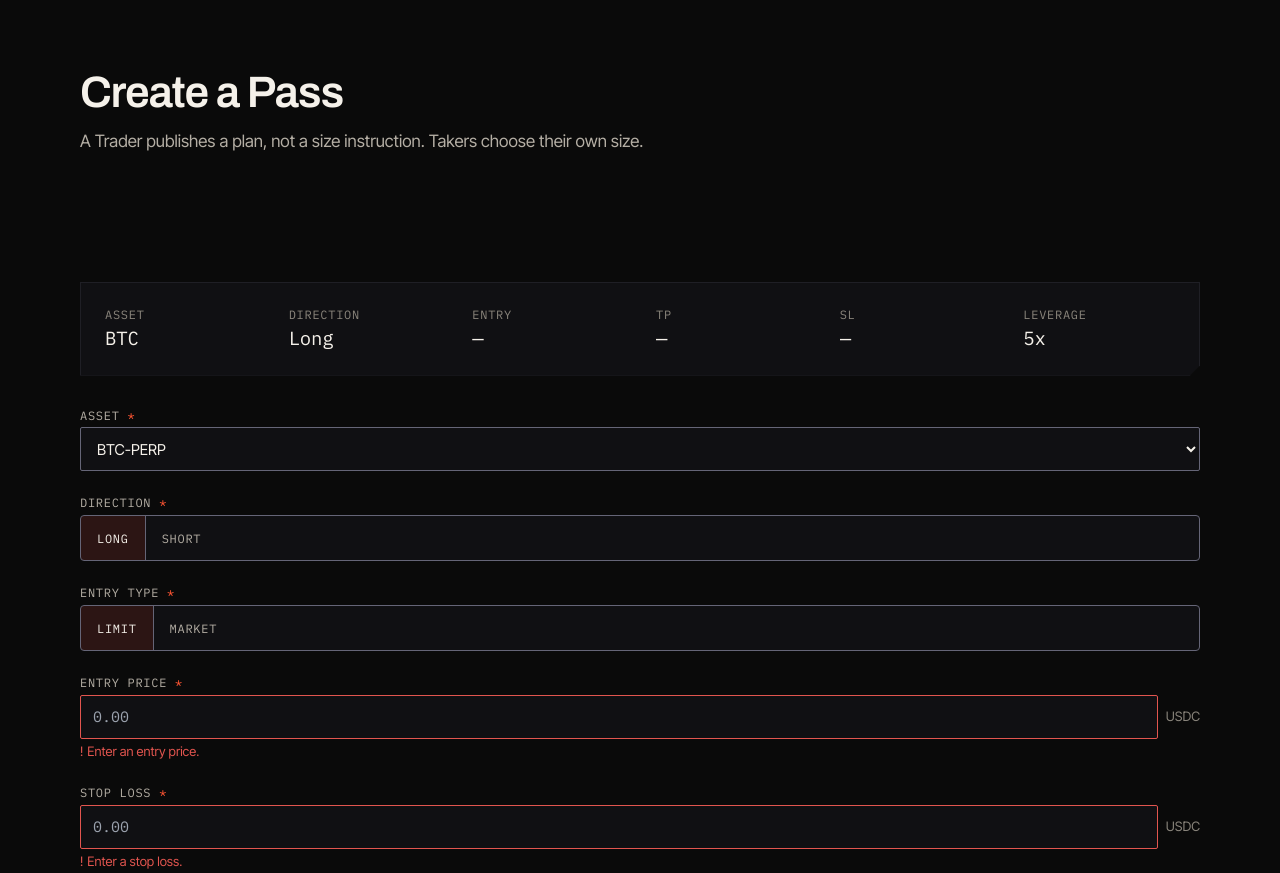
Scenario: Create Pass publish path (create then publish) › POSTs the draft, then publishes it, and only then says Published
Check: the heading "Create a Pass" is shown, box [80,68,343,116]
Type "111900" into the field labelled "Stop loss *" at point(619, 827), box [80,805,1158,849]
(page scrolled)
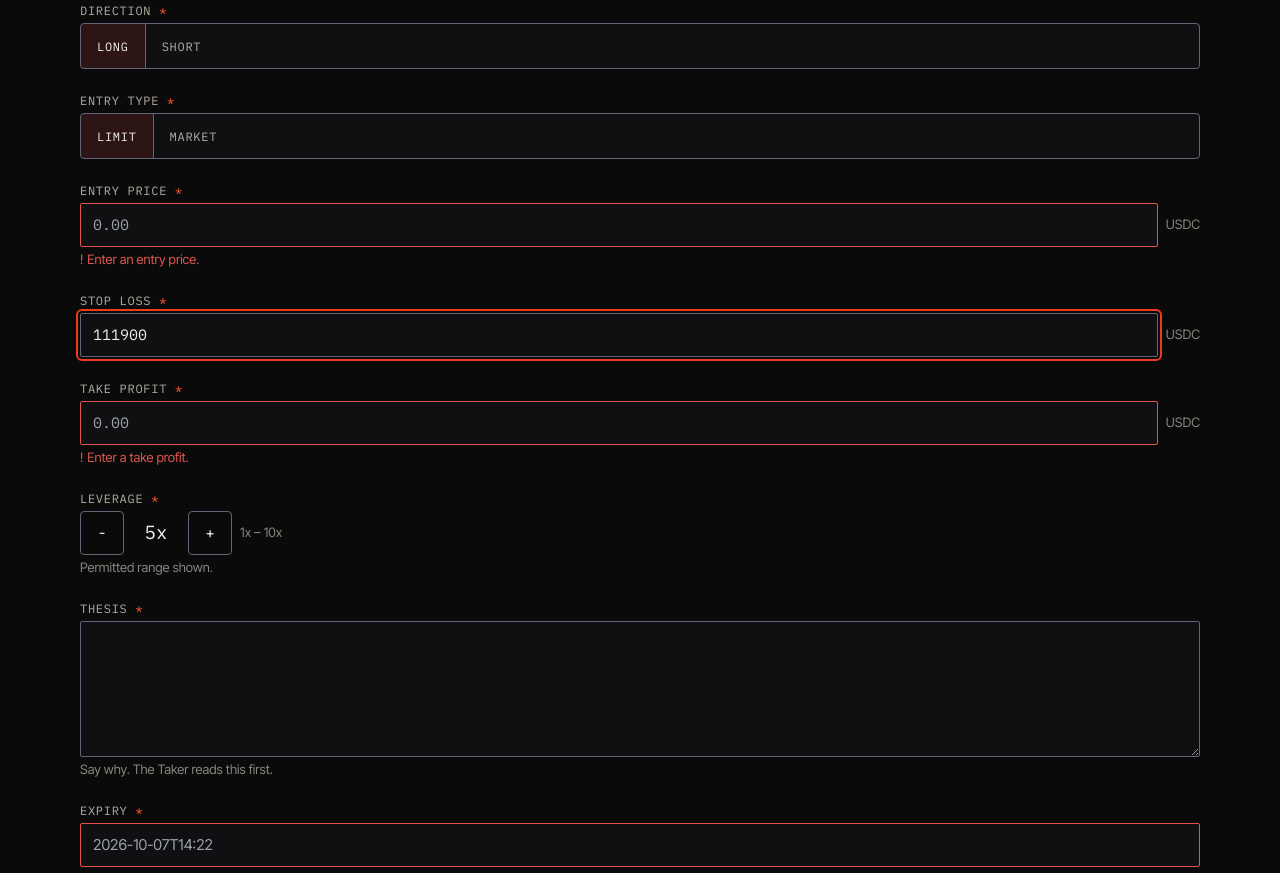
Type "116000" into the field labelled "Take profit *" at point(619, 423), box [80,401,1158,445]
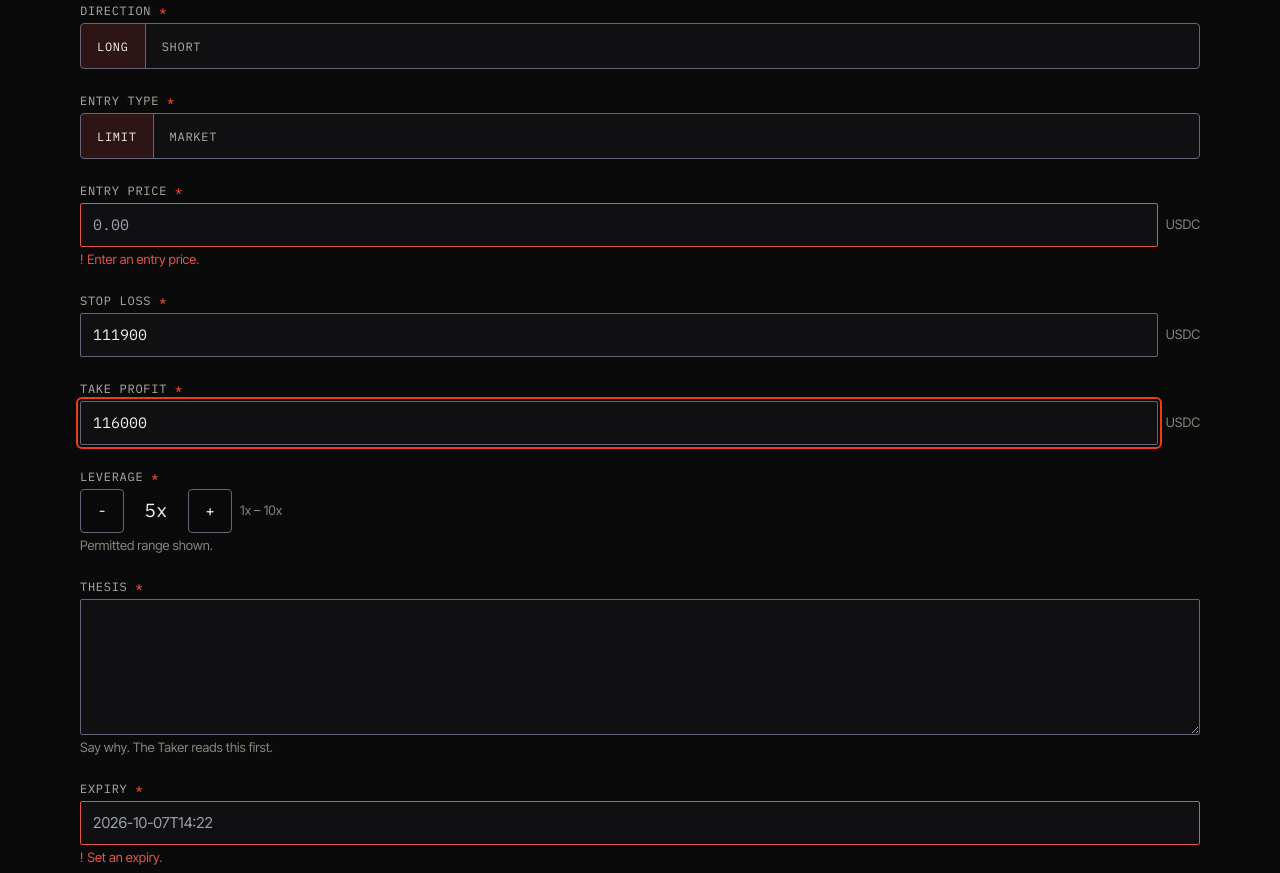
Type "113400" into the field labelled "Entry price *" at point(619, 225), box [80,203,1158,247]
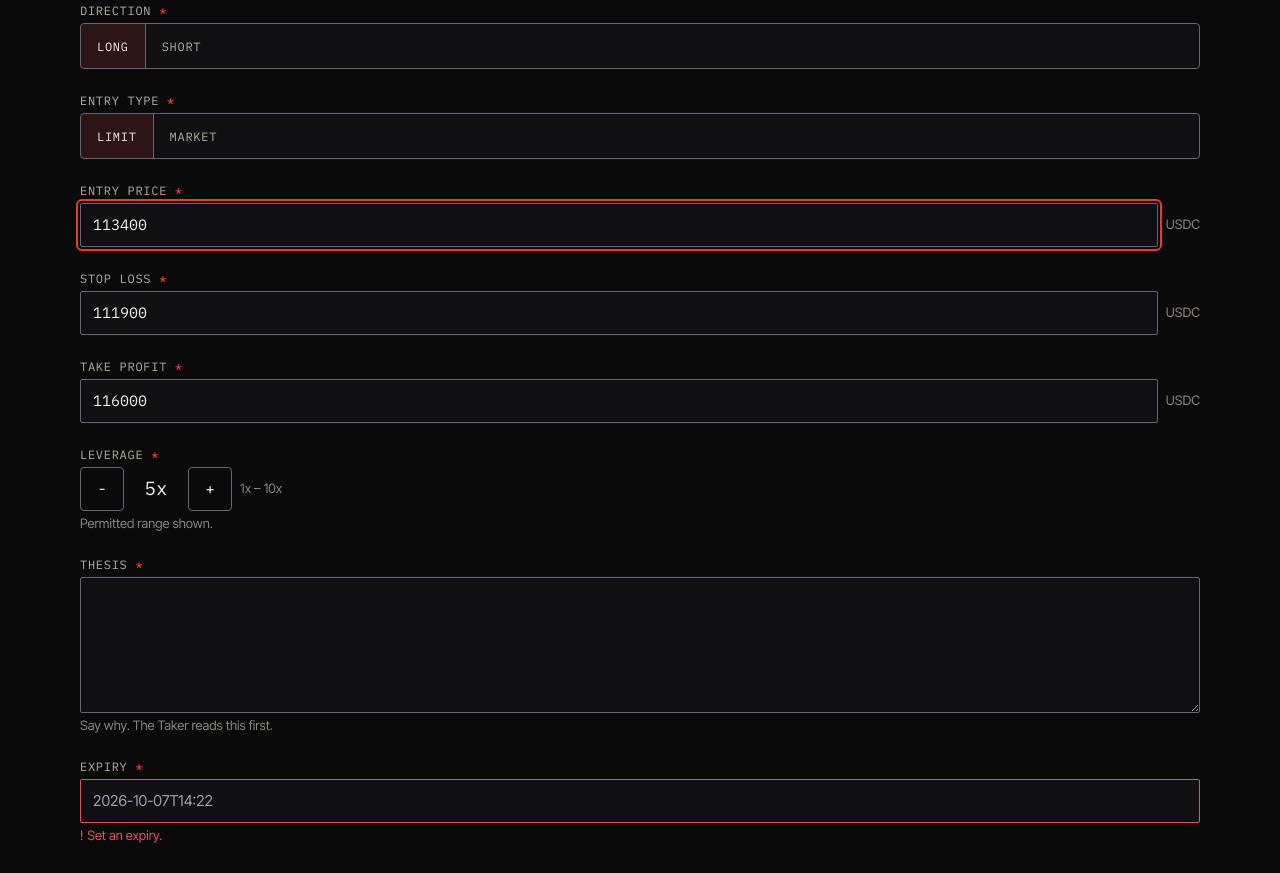
Type "Range top reclaim." into the text box labelled "Thesis *" at point(640, 645), box [80,577,1200,713]
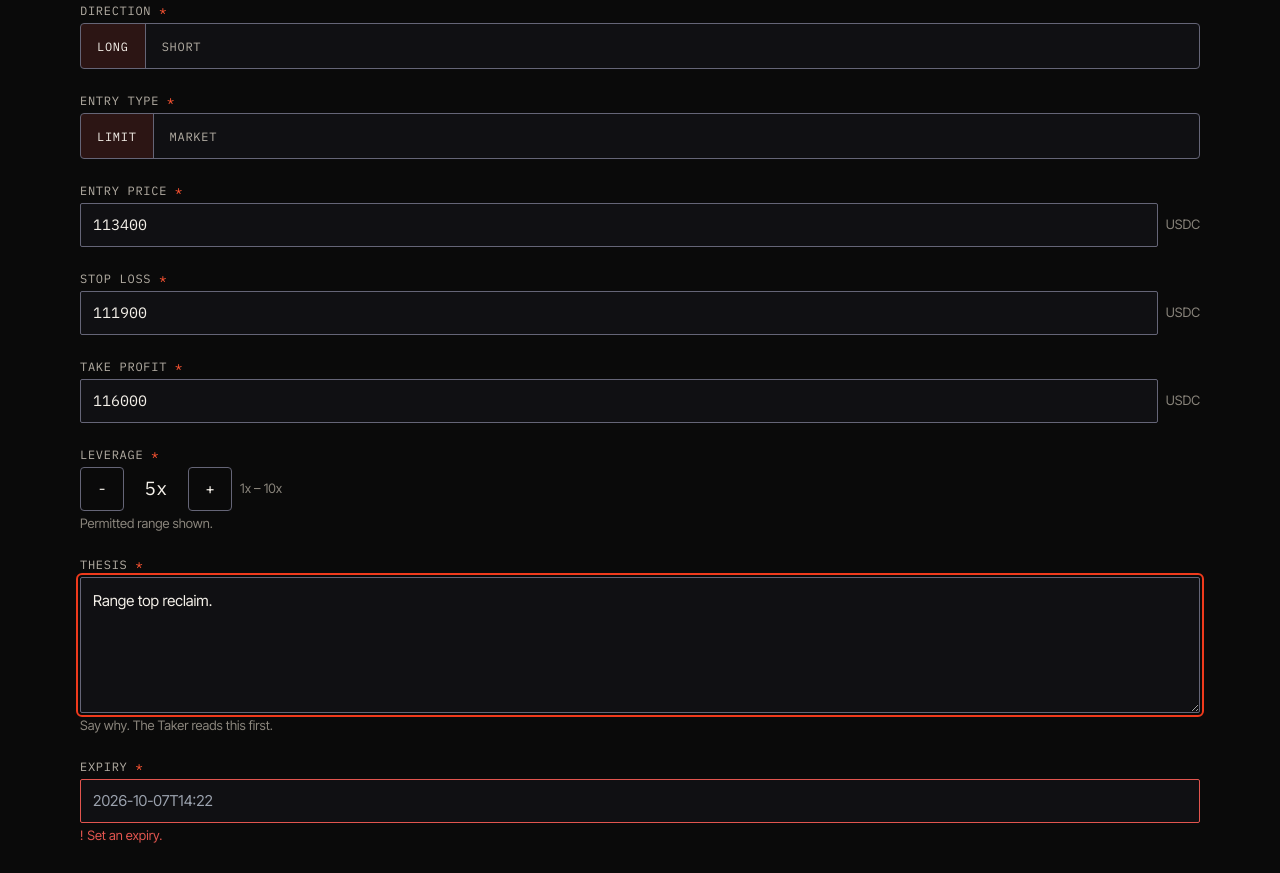
Type "2099-01-01T00:00" into the field labelled "Expiry *" at point(640, 801), box [80,779,1200,823]
(page scrolled)
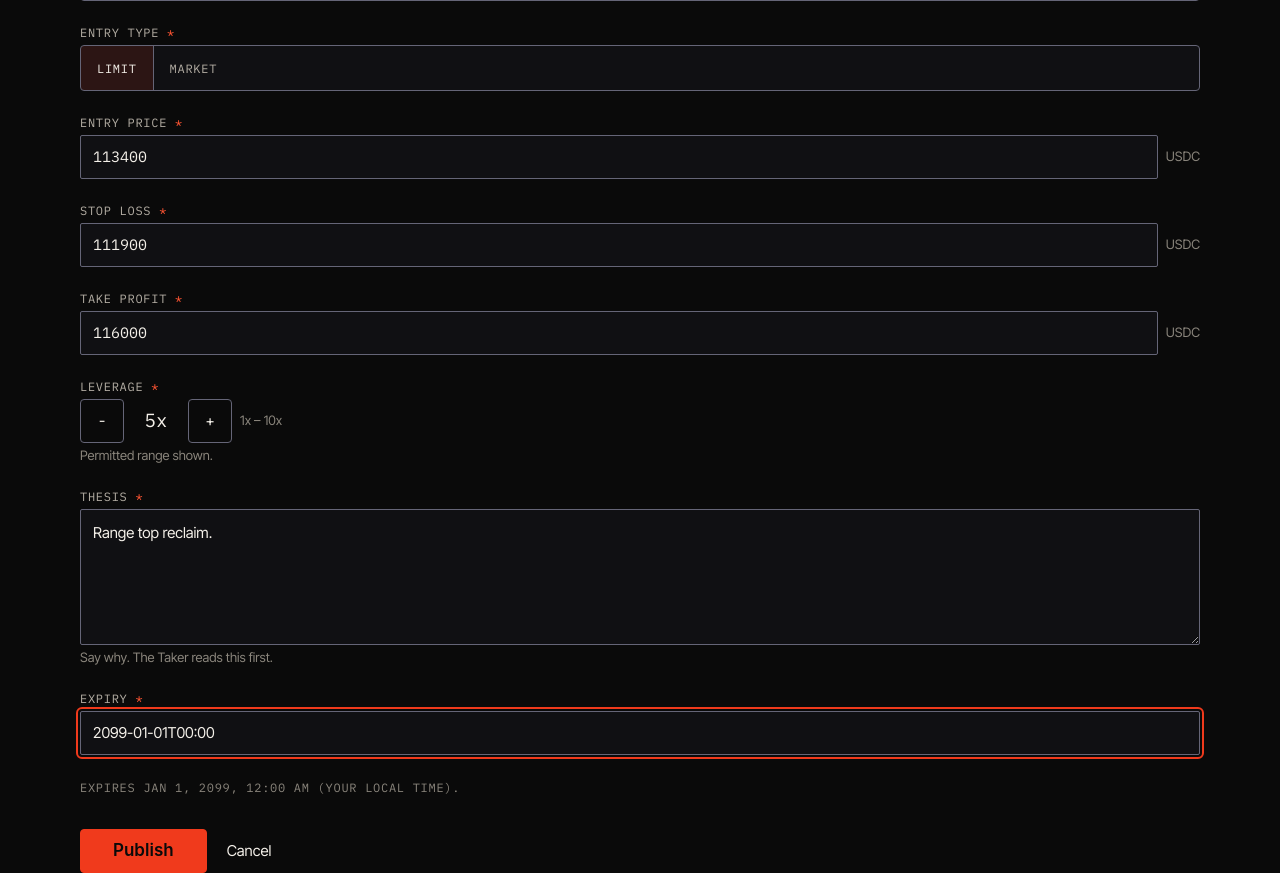
Check: the button "Publish" does not have attribute aria-disabled="true"
Click the button "Publish" at point(143, 851), box [80,829,207,872]
(page scrolled)
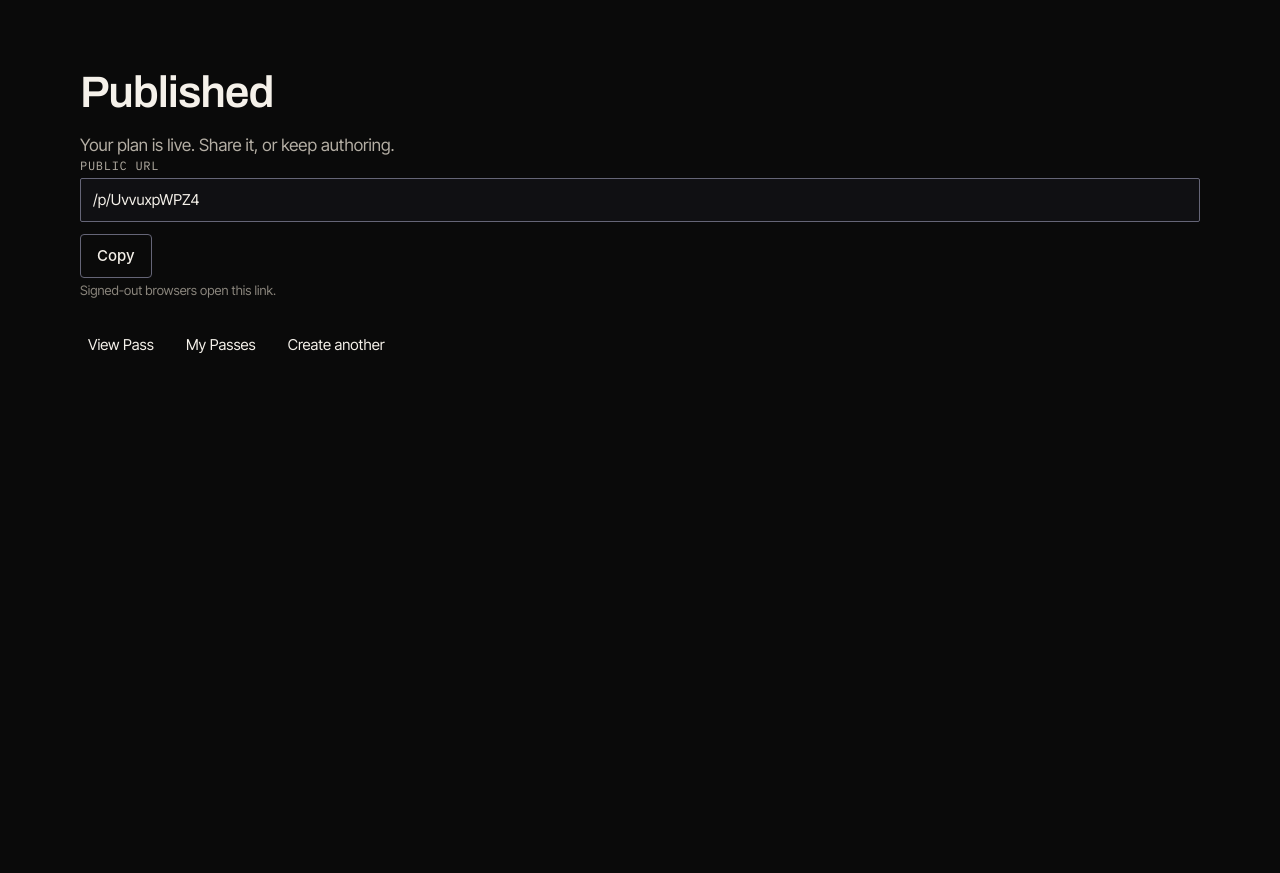
Check: the heading "Published" is shown, box [80,68,273,116]
Check: the field showing "/p/UvvuxpWPZ4" is shown, box [80,178,1200,222]
Check: the button "Copy" is shown, box [80,234,152,278]
